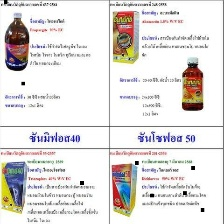carton: (108, 161, 139, 218), (110, 10, 141, 66), (0, 159, 29, 215)
insecticide: (2, 8, 30, 75), (178, 56, 205, 114)
